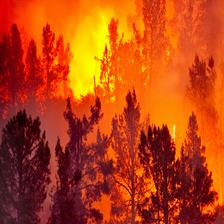fire: (18, 4, 169, 112)
